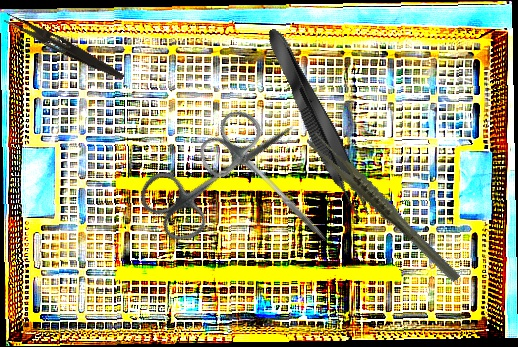Dressing Forceps: (1, 12, 128, 82)
Iris Scissors: (132, 93, 313, 251), (189, 102, 354, 266)
Tissue Forceps: (305, 111, 462, 305), (258, 22, 378, 224)
